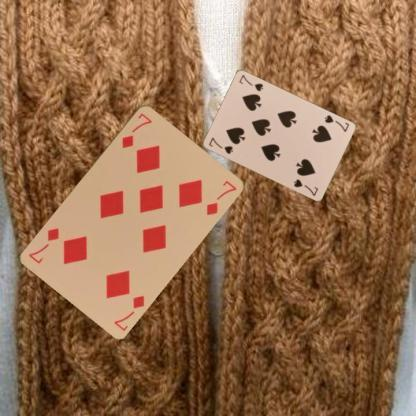7d: (111, 292, 146, 332), (119, 110, 153, 149)
7s: (321, 112, 350, 134), (206, 134, 234, 156)
